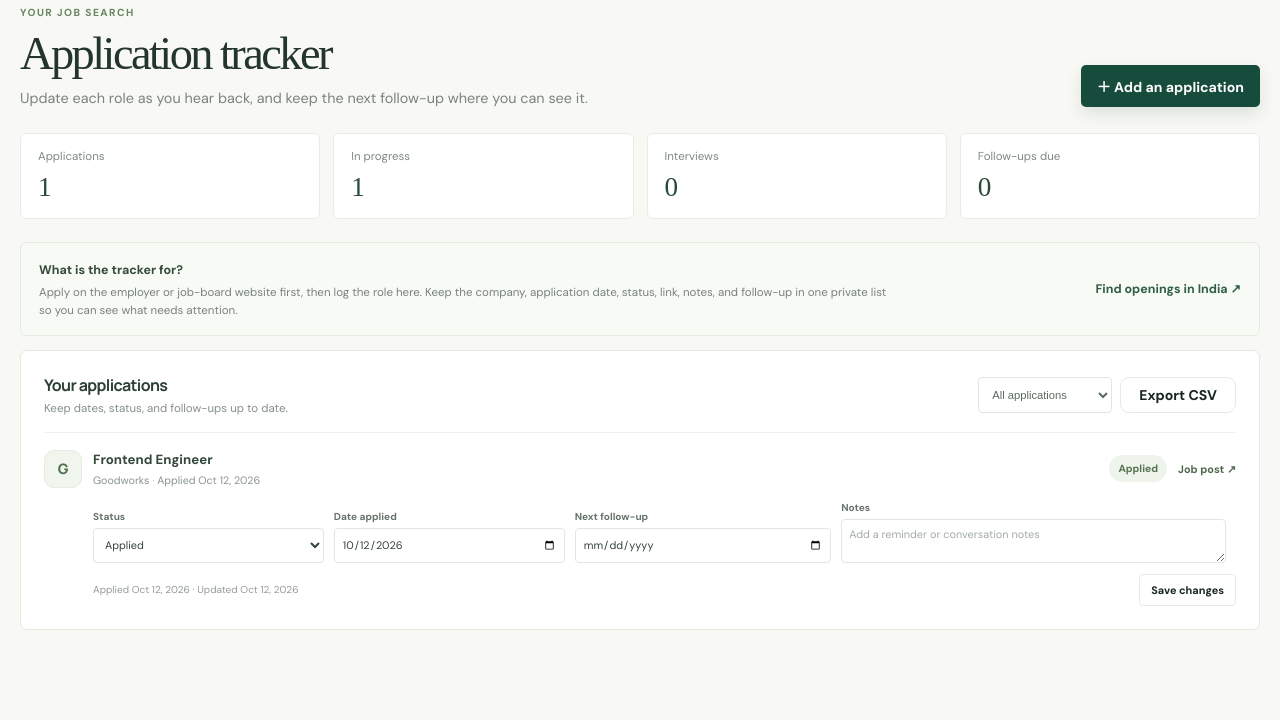
Test case: updates a saved application's status and follow-up date
Expected: the text "Apply on the employer or job-board website first" is shown, [39,285,886,318]
Select "Interview" in the dropdown labelled "Status": {"x": 208, "y": 545} [93,528,324,563]
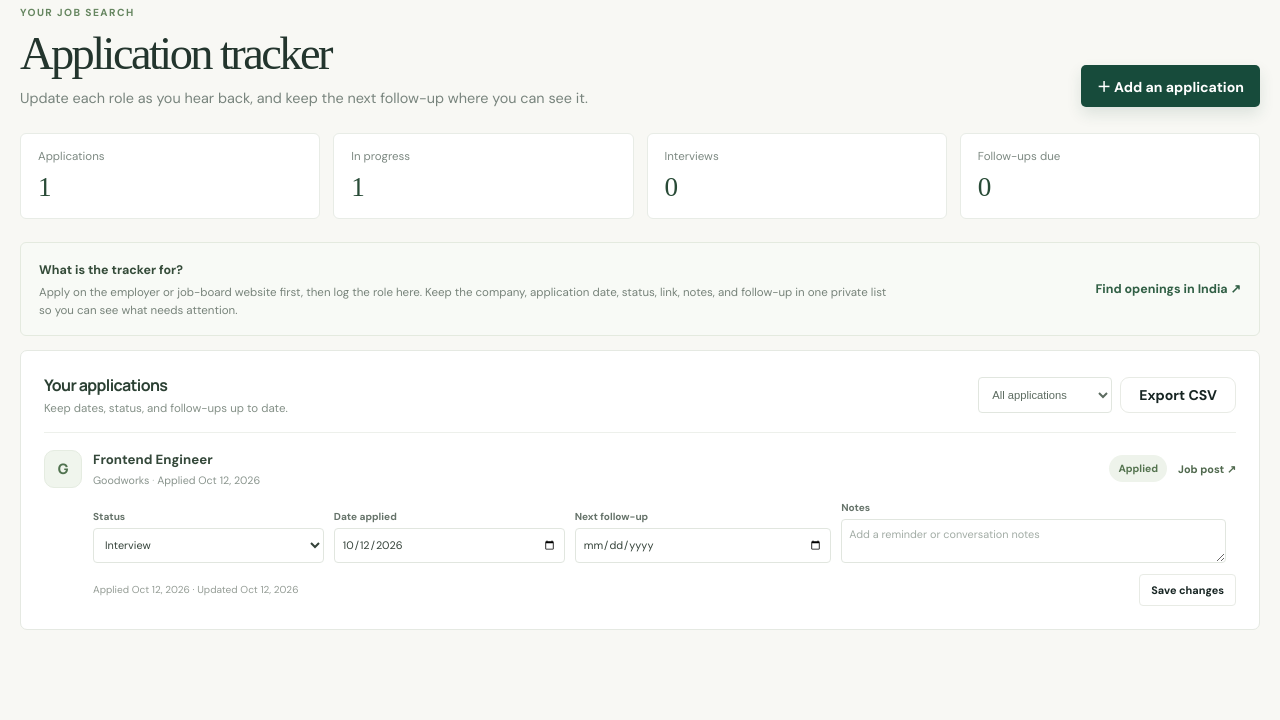
In the date field labelled "Next follow-up": {"x": 703, "y": 545} [575,528,831,563], type "2026-10-20"
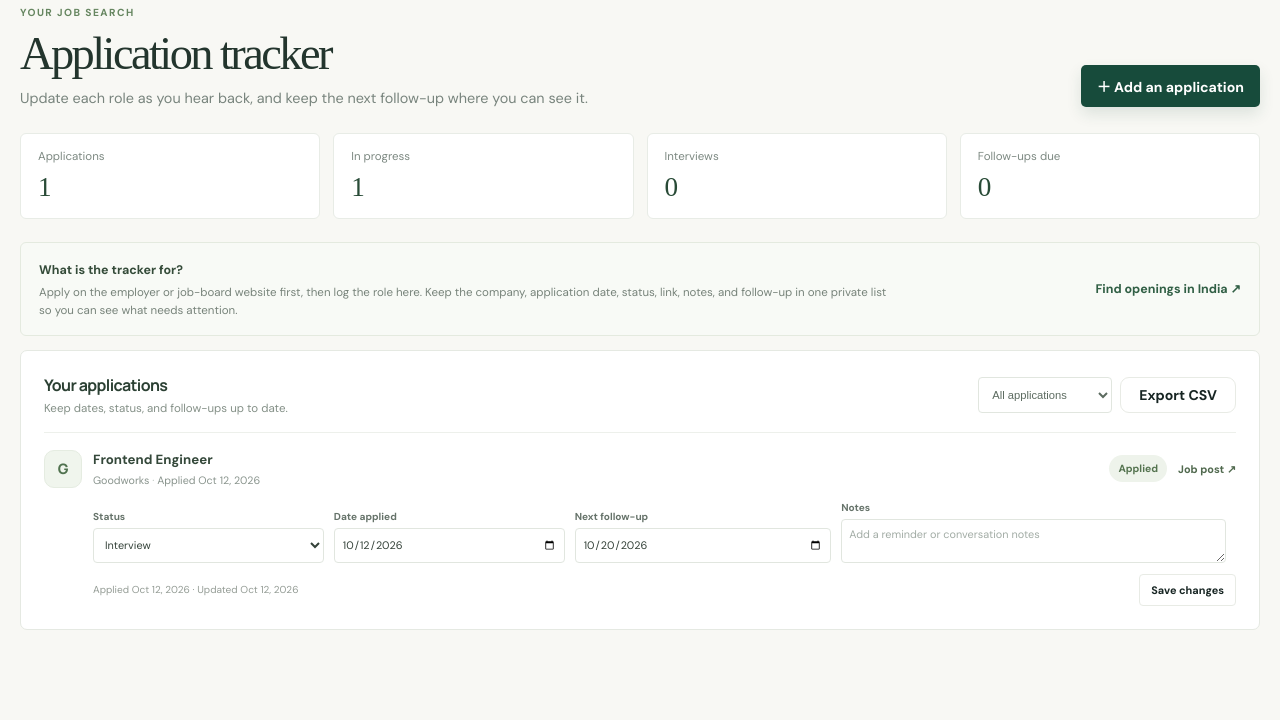
Click the button "Save changes": {"x": 1188, "y": 590} [1139,574,1236,606]
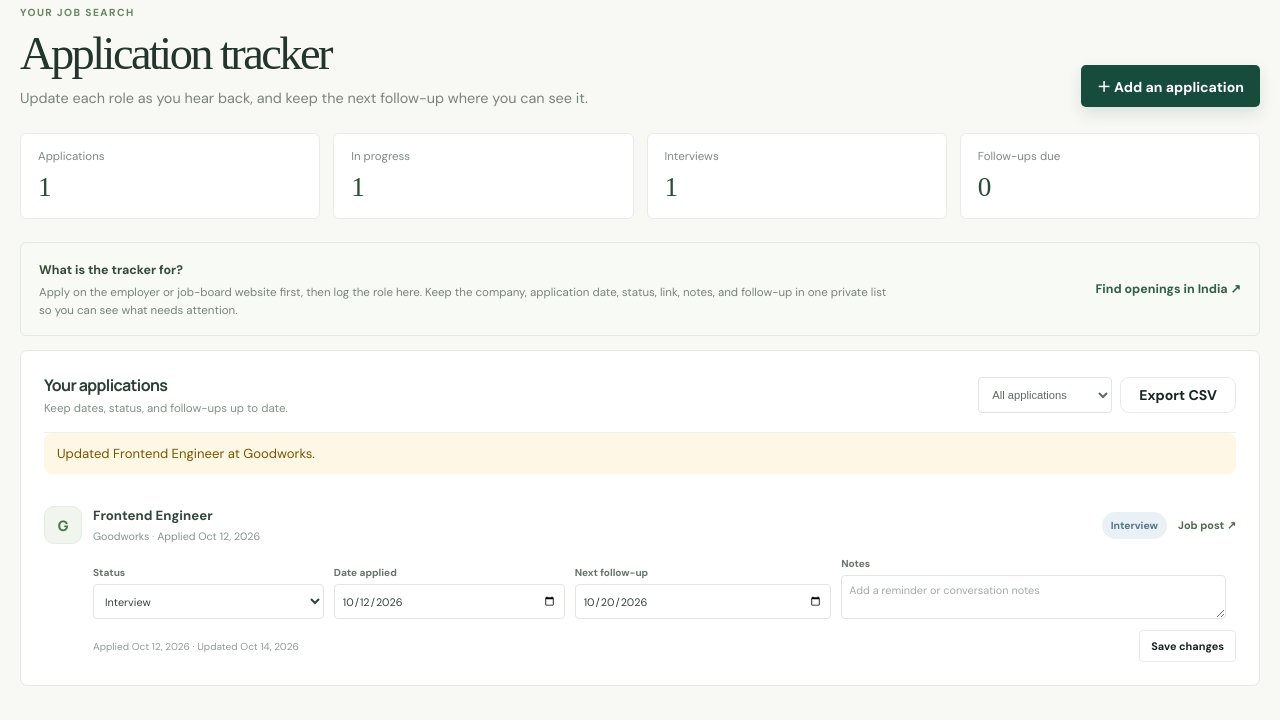
Expected: the text "Updated Frontend Engineer at Goodworks." is shown, [44,433,1236,474]
